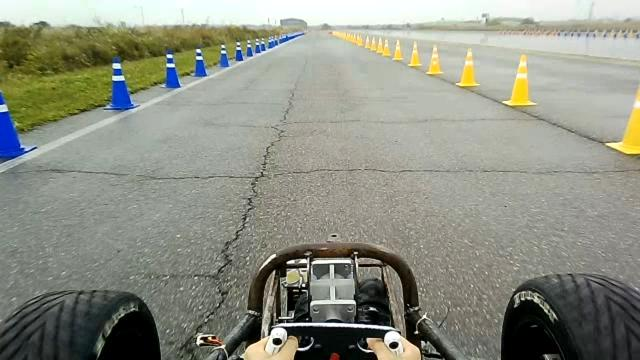blue cone: (0, 90, 37, 161), (103, 56, 139, 111), (160, 48, 182, 89), (190, 47, 208, 77), (216, 43, 230, 68), (234, 41, 244, 61), (246, 39, 253, 57), (254, 38, 261, 54), (259, 37, 266, 52)
yellow cone: (605, 86, 639, 155), (502, 54, 537, 107), (455, 48, 480, 88), (426, 44, 443, 74), (408, 40, 422, 67), (516, 54, 528, 76), (392, 39, 403, 61), (382, 38, 391, 56), (370, 36, 378, 52), (364, 35, 371, 49)
